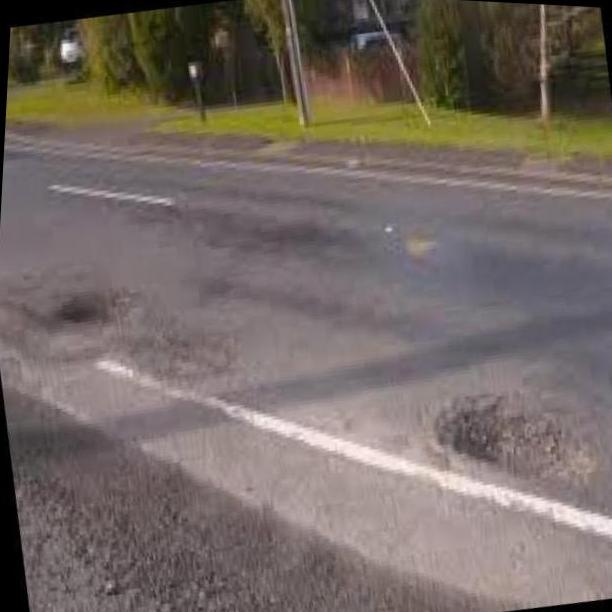pothole: (435, 376, 612, 497), (44, 281, 140, 352)
